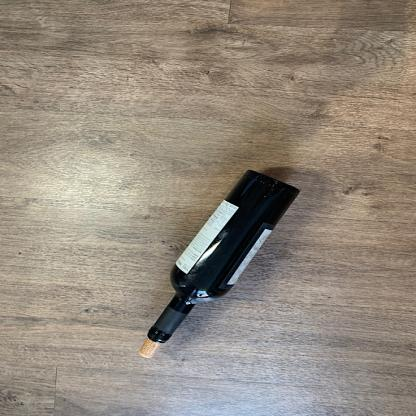trash: (143, 165, 302, 364)
